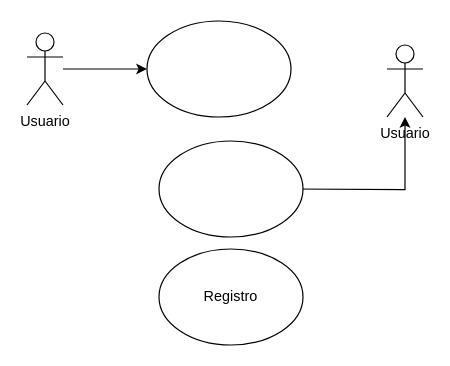
Some shapes in this 450 by 366 pixel diagram are drawn without their labels. The centre of each missing label's shape, as x and y in pixels:
"Check-login" belongs at (x=230, y=188).
"Login" belongs at (x=218, y=68).
